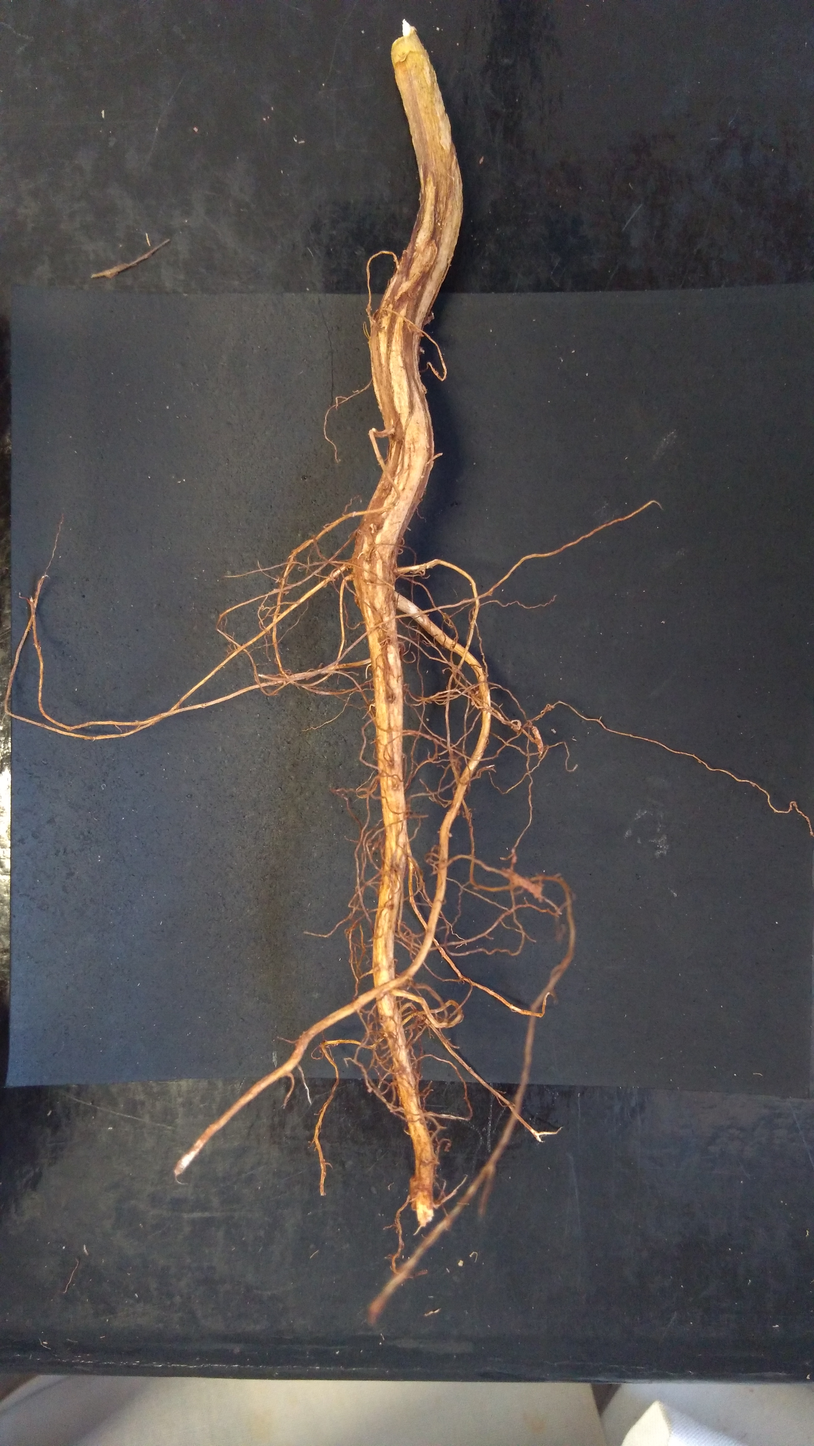nodule: (409, 1175, 421, 1211), (361, 533, 375, 562), (531, 725, 544, 755), (422, 311, 434, 327), (414, 1012, 426, 1026), (397, 641, 406, 657), (353, 592, 361, 608), (369, 522, 377, 535), (478, 674, 487, 682), (515, 721, 522, 731), (371, 427, 377, 434)
